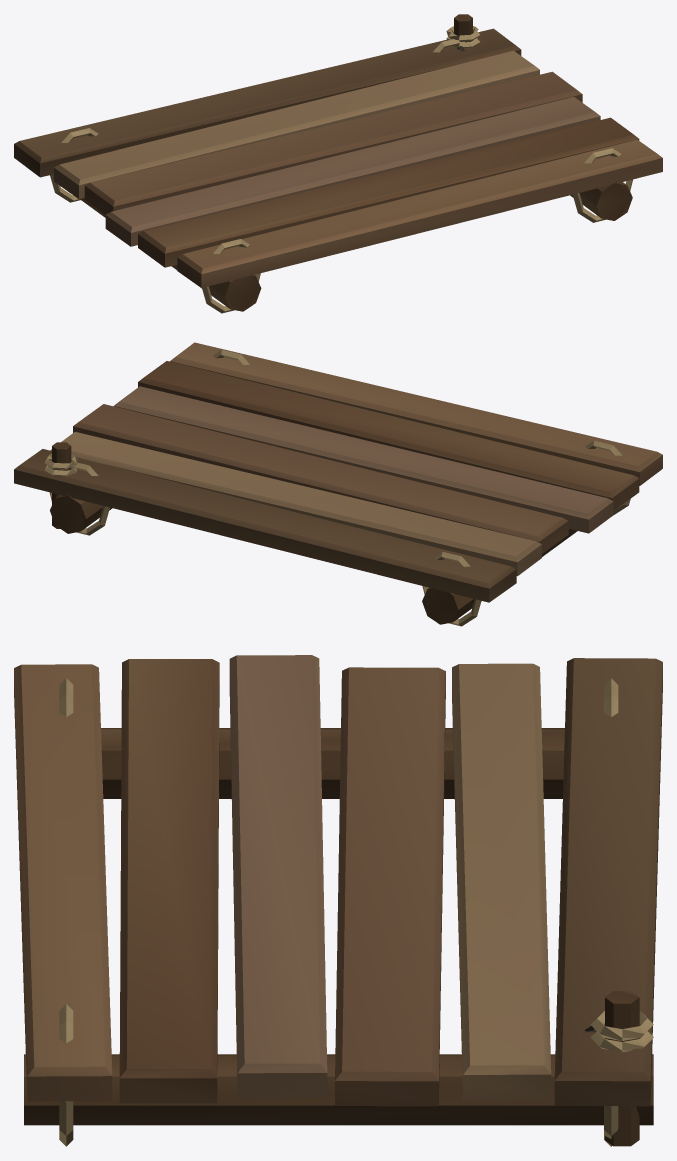
Rendered from raft.glb.
The picture shows the model from 3 angles, top to bottom: view 1: azimuth 30°, elevation 25°; view 2: azimuth 150°, elevation 25°; view 3: azimuth 270°, elevation 25°; orthographic projection. The views are drawn at different scales.
Visible parts, largest first — view 1: raft_deck; view 2: raft_deck; view 3: raft_deck.
Part boxes in pixels (x1,y1,x2,y2): raft_deck: (14,14,662,313); raft_deck: (14,342,662,626); raft_deck: (14,655,662,1146).
Size of the model in its own units: 0.6355 by 0.1082 by 0.4122.
